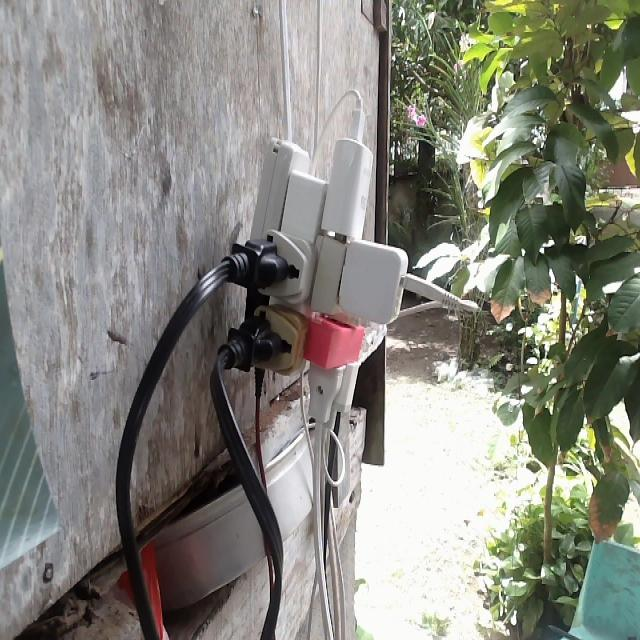-: (209, 88, 409, 427)
